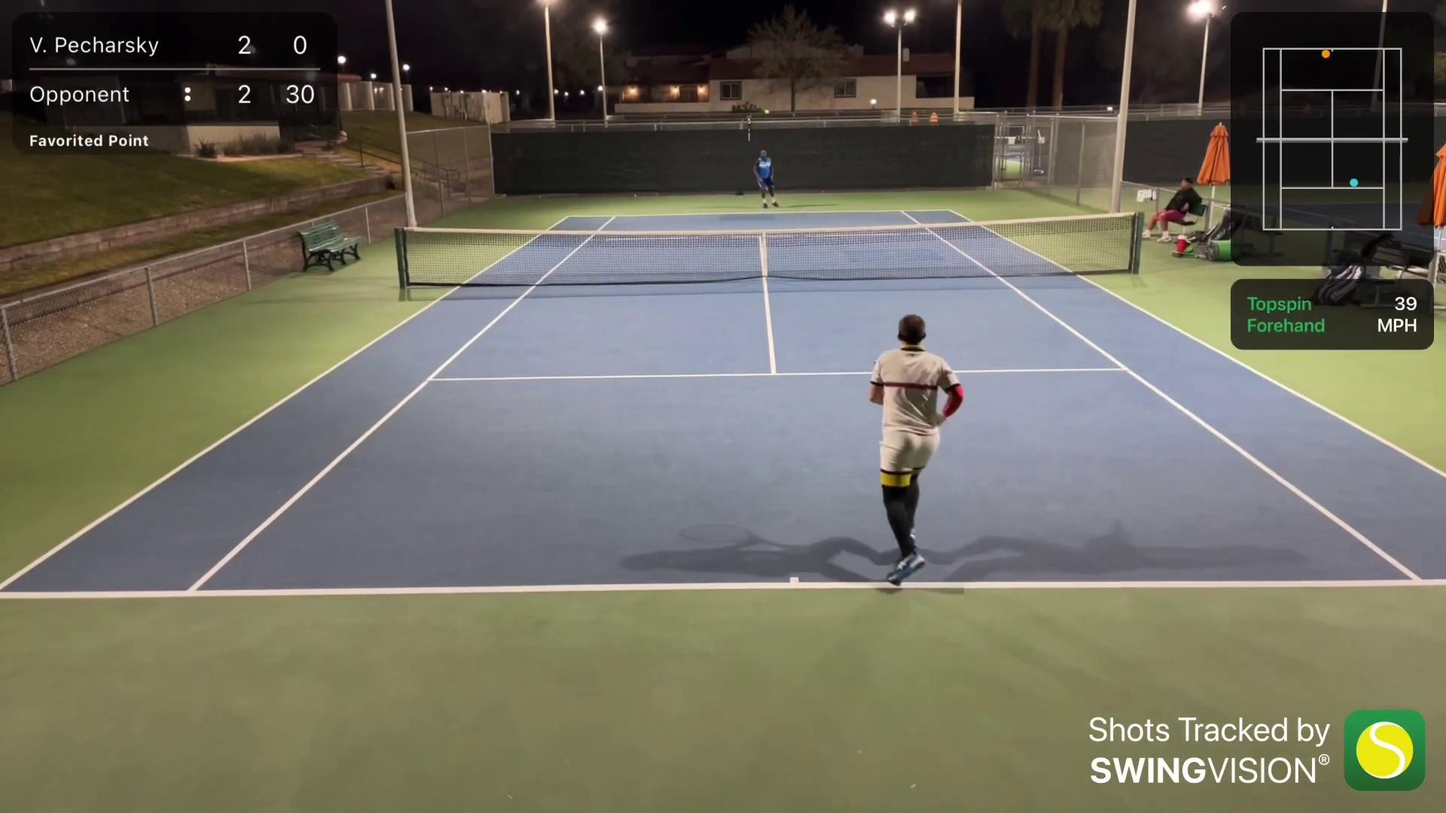ball: (764, 109, 771, 116)
